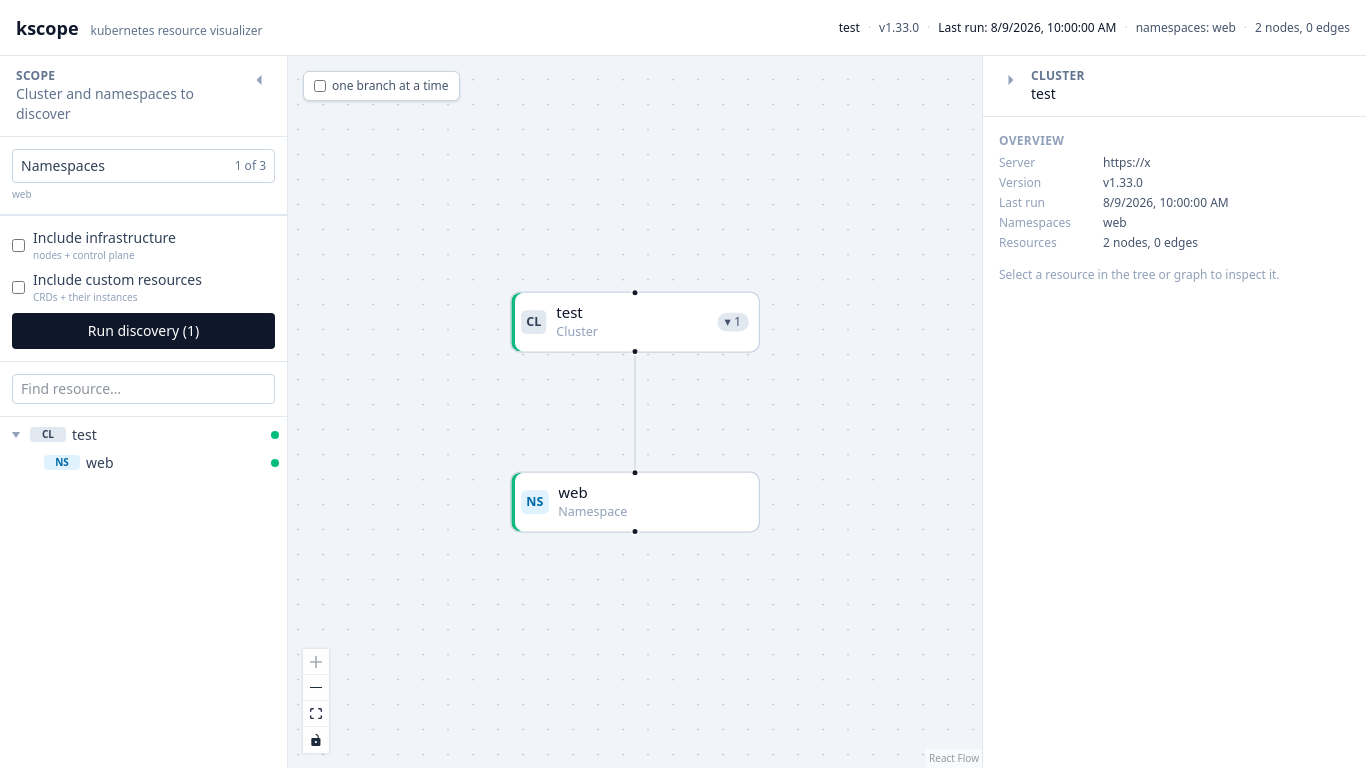
Test: sidebar collapsing › collapses via the header button and reopens via the floating one
Expected: the text "Scope" is shown, [16,67,55,84]
Step 1. Click the button named "Collapse sidebar" → (259, 80), box [247,68,271,92]
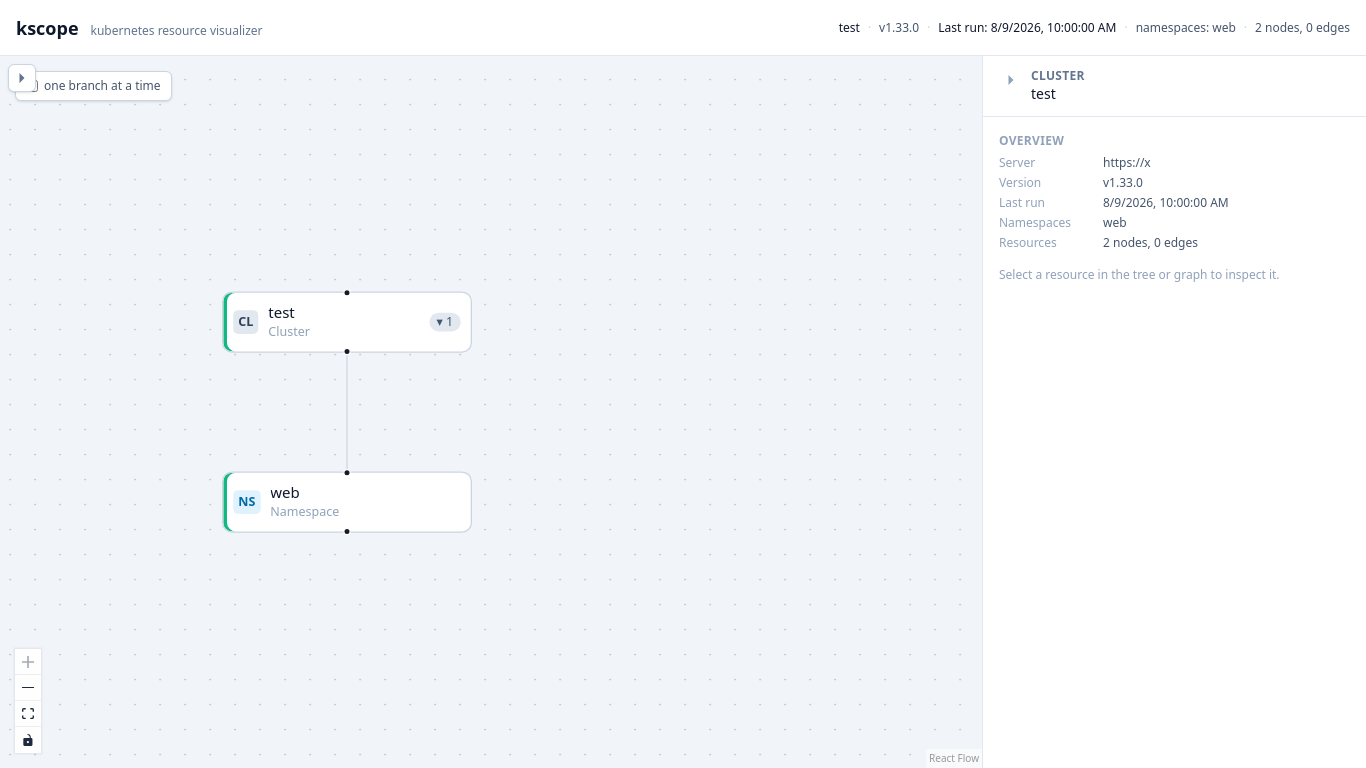
Note: The floating reopen button appears where the collapse button was.
Step 2. Click the button named "Expand sidebar" → (22, 78), box [8,64,36,92]
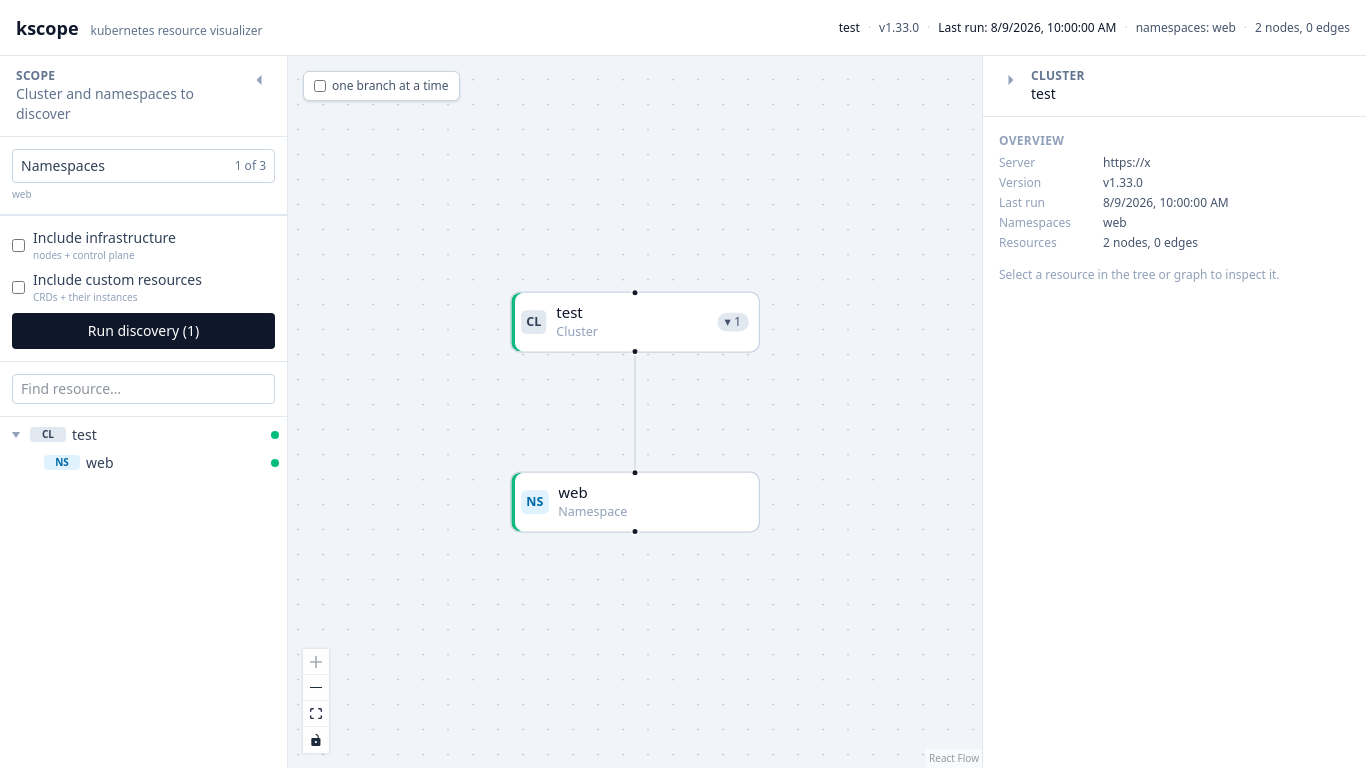
Expected: the text "Scope" is shown, [16,67,55,84]
